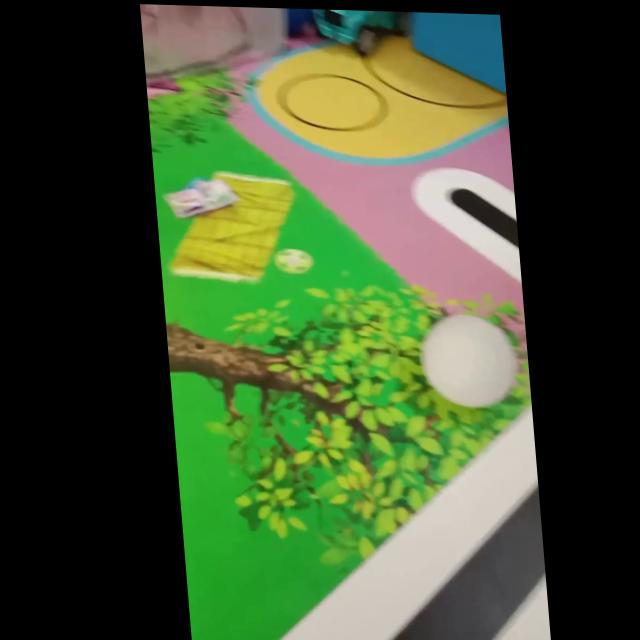white ball: (415, 312, 521, 410)
